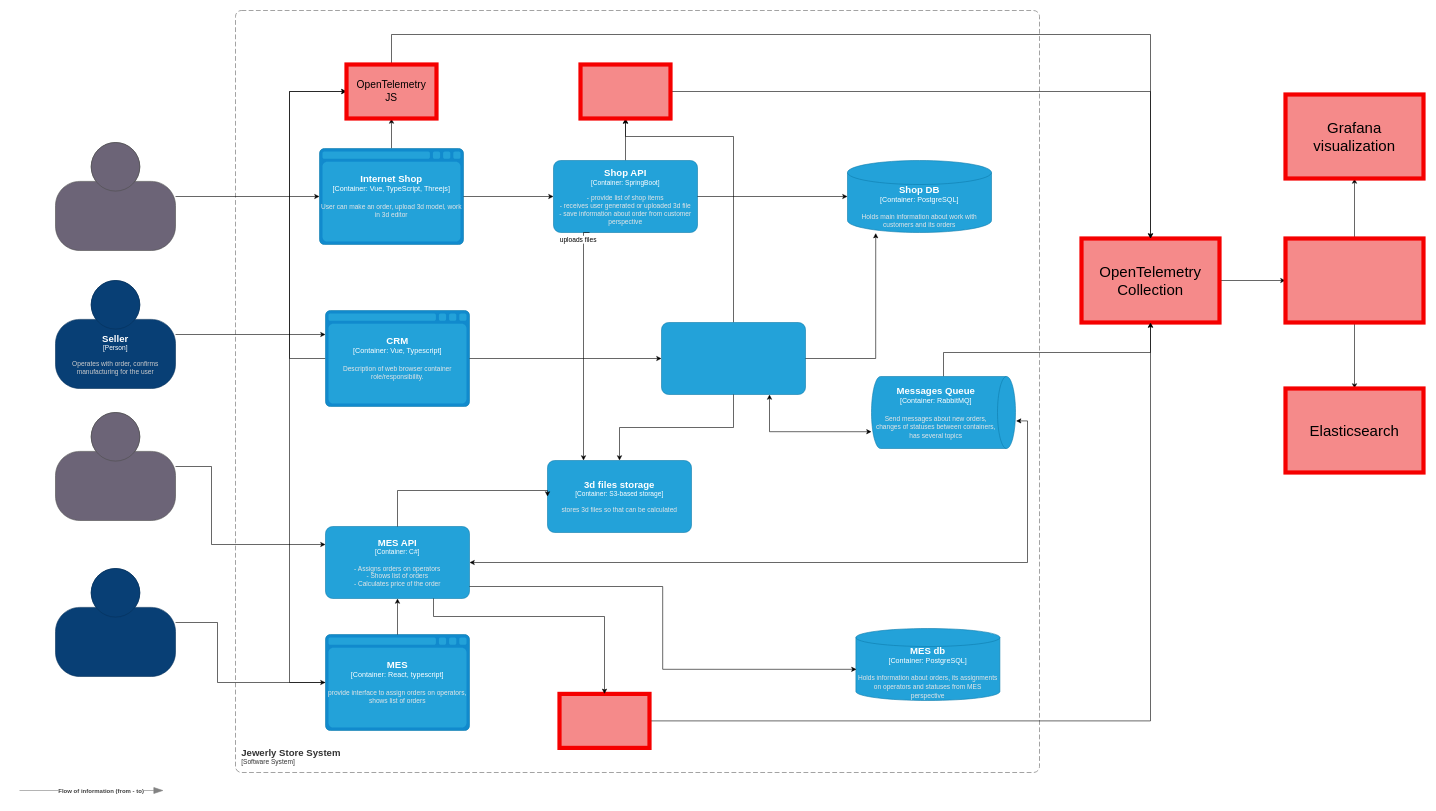
The diagram is 1436 pixels wide and 811 high, and some of its shapes have lost their labels. Here are the shapes that lost their labels. From the top down, the centre of each, then its label:
point 625,91: OpenTelemetry Java Agent Micrometer
point 115,196: Customer [Person] Description of external person.
point 1354,280: Jaeger
point 733,358: CRM API [Container: SpringBoot] Description of container role/responsibility.
point 115,466: API user [Person] Description of external person.
point 115,622: Operator [Person] Takes order in work, manufactures jewerly
point 604,721: OpenTelemetry .NET SDK
